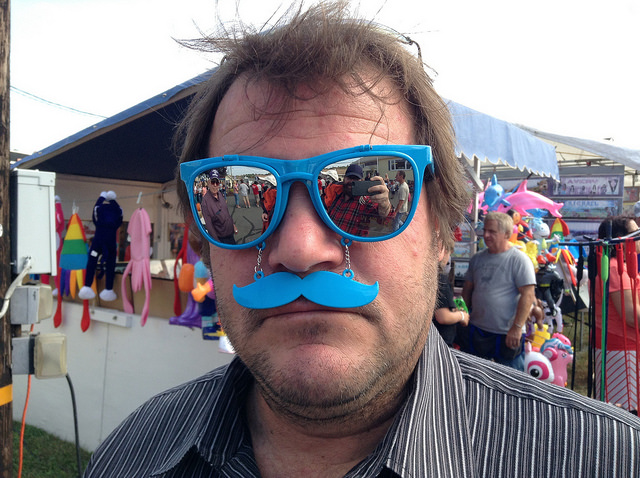sunglasses: (163, 144, 431, 244), (163, 161, 427, 244), (163, 161, 427, 223)
